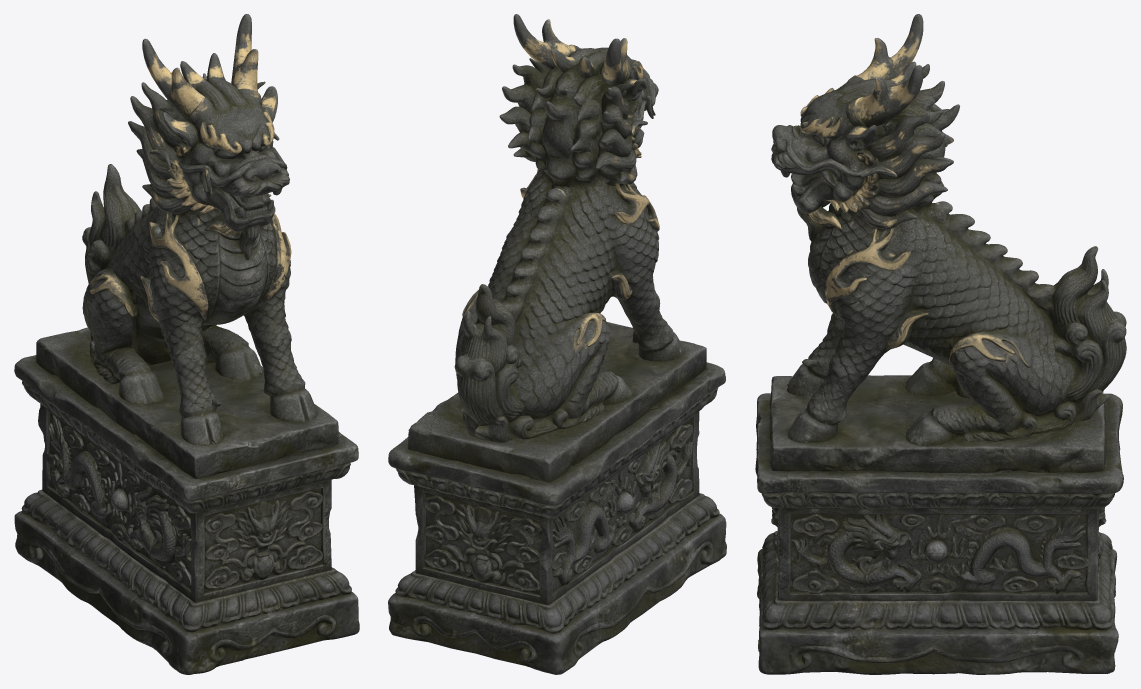
The model's file is qilin_statue.glb.
3 views of the same model, side by side, from view 1: azimuth 30°, elevation 25°; view 2: azimuth 150°, elevation 25°; view 3: azimuth 270°, elevation 25° (orthographic). The views are drawn at different scales.
Visible parts, largest first — view 1: Mesh_0; view 2: Mesh_0; view 3: Mesh_0.
Part boxes in pixels (box(x1,y1,x2,y2)): Mesh_0: box(14, 14, 359, 674); Mesh_0: box(388, 14, 726, 674); Mesh_0: box(755, 14, 1126, 674).
Size of the model in its own units: 1 by 3 by 1.7.
Materials: 1 (1 with a texture image).
